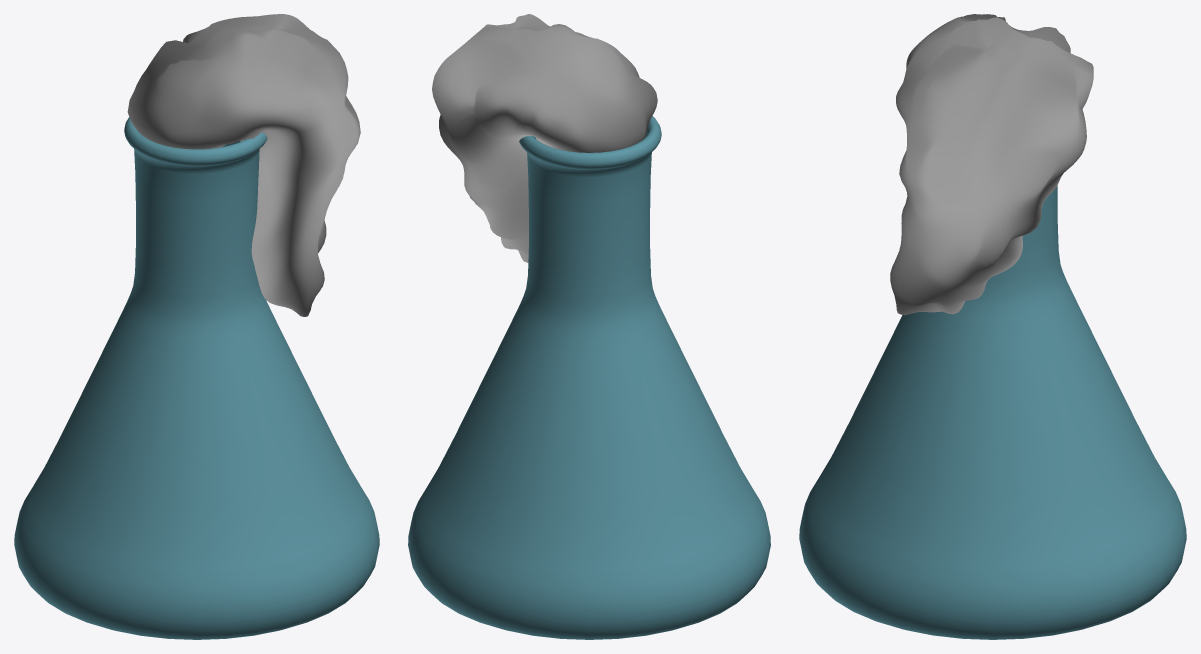
File: Beaker_Foam_anim_delete_beakermodel.FBX
The picture shows the model from 3 angles, left to right: view 1: azimuth 30°, elevation 25°; view 2: azimuth 150°, elevation 25°; view 3: azimuth 270°, elevation 25°; orthographic projection. The views are drawn at different scales.
Visible parts, largest first — view 1: Beaker, Group12113; view 2: Beaker, Group12113; view 3: Beaker, Group12113.
Boxes of the visible parts, x1=… form: Beaker: x1=14, y1=117, x2=379, y2=639; Group12113: x1=127, y1=14, x2=360, y2=316; Beaker: x1=408, y1=116, x2=770, y2=639; Group12113: x1=432, y1=14, x2=657, y2=262; Beaker: x1=799, y1=185, x2=1186, y2=639; Group12113: x1=890, y1=14, x2=1093, y2=315.
Bounding box in the file's own units: 34.44 × 56.05 × 34.44.
